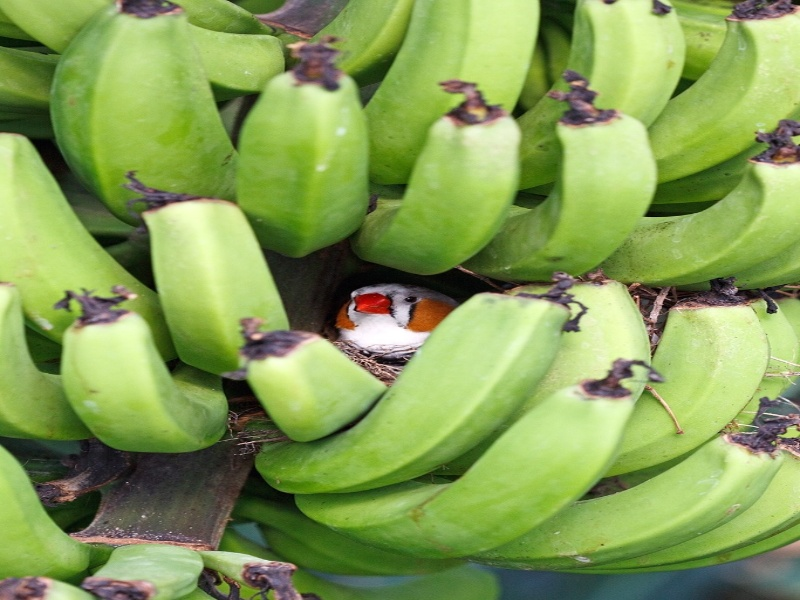banana: (459, 276, 656, 576), (2, 445, 304, 600), (45, 1, 257, 216), (655, 282, 800, 562), (656, 2, 800, 283), (117, 169, 302, 371), (46, 272, 237, 458), (373, 72, 516, 283), (1, 121, 89, 443), (252, 34, 372, 258), (532, 70, 654, 277), (213, 321, 376, 433)
